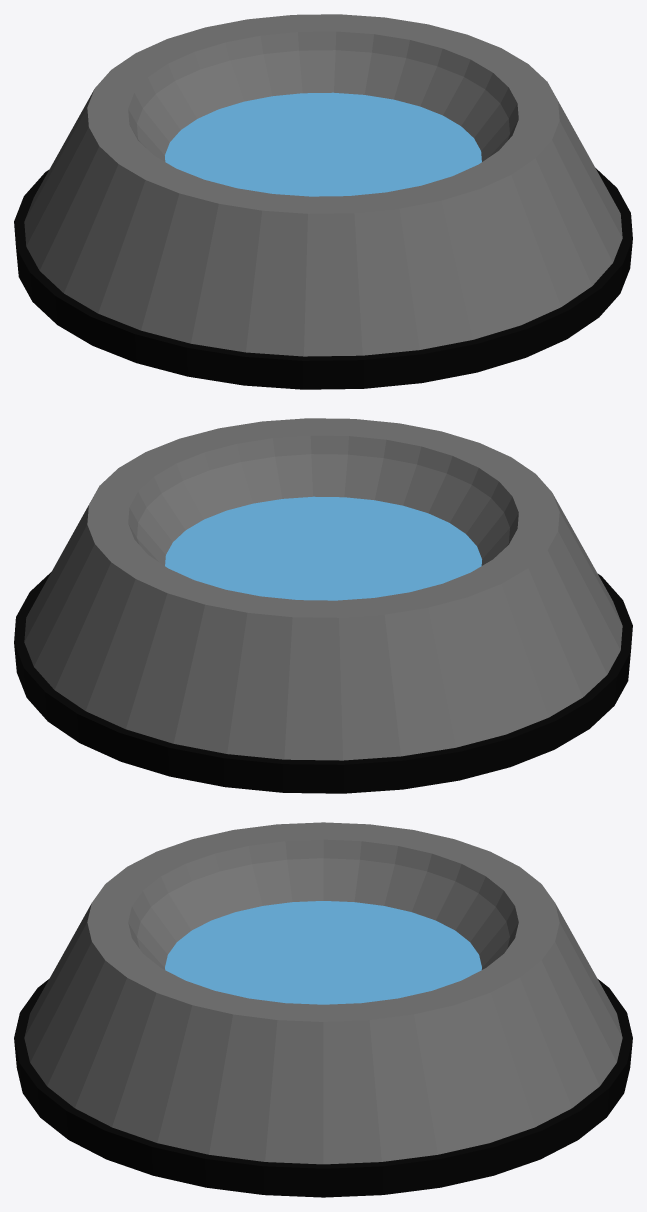
The model's file is CatWaterPlate.fbx.
3 views of the same model, one above another, from view 1: azimuth 30°, elevation 25°; view 2: azimuth 150°, elevation 25°; view 3: azimuth 270°, elevation 25° (orthographic).
Parts seen in each view (by area): view 1: CatWaterPlate; view 2: CatWaterPlate; view 3: CatWaterPlate.
Boxes of the visible parts, left/top/right/bottom form: CatWaterPlate: left=14, top=14, right=632, bottom=389; CatWaterPlate: left=14, top=418, right=632, bottom=793; CatWaterPlate: left=14, top=822, right=632, bottom=1197.
Size of the model in its own units: 0.0828 by 0.0828 by 0.0215.
